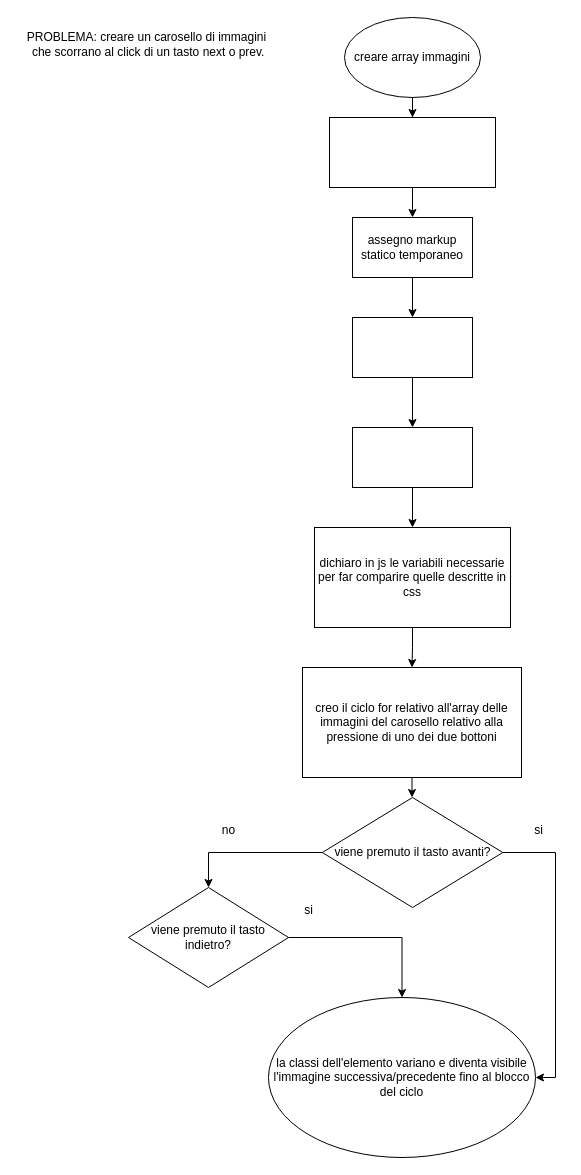
Some shapes in this 581 by 1175 pixel diagram are drawn without their labels. Here are the shapes that lost their labels. From the top down, the centre of each, then its label:
At point (412, 152): "creare in html struttura base con un div per le immagini e uno per i bottoni".
At point (412, 347): "creo classi css per stilizzare i markup".
At point (412, 457): "elimino markup temporanei".
